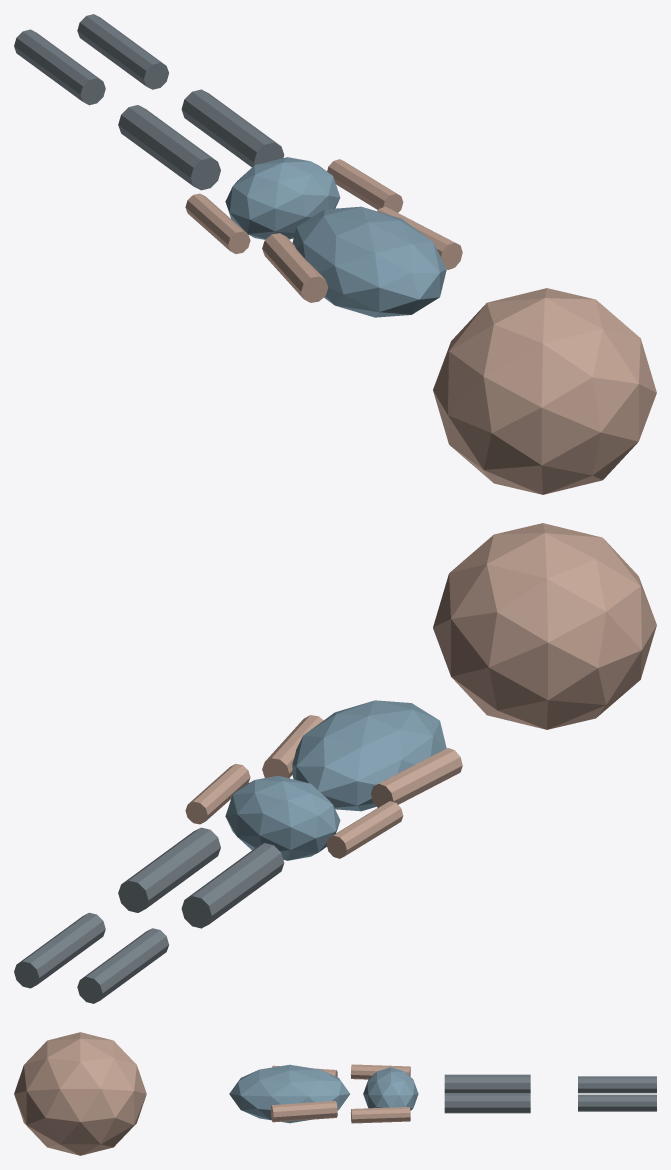
File: newborn-low.glb
3 views of the same model, one above another, from view 1: azimuth 30°, elevation 25°; view 2: azimuth 150°, elevation 25°; view 3: azimuth 270°, elevation 25° (orthographic). The views are drawn at different scales.
Parts seen in each view (by area): view 1: head, torso, pelvis, left_thigh, right_thigh, left_lower_leg, right_lower_leg, left_upper_arm, left_forearm, right_forearm, right_upper_arm; view 2: head, torso, pelvis, right_thigh, left_thigh, right_lower_leg, left_lower_leg, left_upper_arm, left_forearm, right_forearm, right_upper_arm; view 3: head, torso, pelvis, right_thigh, left_thigh, left_lower_leg, right_lower_leg, right_upper_arm, right_forearm, left_forearm.
Boxes of the visible parts, left/top/right/bottom form: head: left=433, top=288, right=656, bottom=494; torso: left=292, top=206, right=446, bottom=317; pelvis: left=225, top=157, right=340, bottom=239; left_thigh: left=118, top=105, right=220, bottom=190; right_thigh: left=181, top=89, right=284, bottom=167; left_lower_leg: left=14, top=29, right=105, bottom=105; right_lower_leg: left=77, top=14, right=168, bottom=89; left_upper_arm: left=262, top=233, right=328, bottom=302; left_forearm: left=185, top=193, right=250, bottom=253; right_forearm: left=327, top=159, right=403, bottom=212; right_upper_arm: left=377, top=206, right=462, bottom=269; head: left=433, top=523, right=656, bottom=729; torso: left=292, top=700, right=446, bottom=811; pelvis: left=225, top=775, right=340, bottom=860; right_thigh: left=118, top=827, right=220, bottom=912; left_thigh: left=181, top=843, right=284, bottom=928; right_lower_leg: left=14, top=912, right=105, bottom=988; left_lower_leg: left=77, top=928, right=168, bottom=1003; left_upper_arm: left=371, top=748, right=462, bottom=807; left_forearm: left=326, top=801, right=403, bottom=858; right_forearm: left=185, top=764, right=250, bottom=824; right_upper_arm: left=262, top=715, right=323, bottom=778; head: left=14, top=1032, right=146, bottom=1155; torso: left=229, top=1064, right=349, bottom=1123; pelvis: left=363, top=1067, right=418, bottom=1110; right_thigh: left=444, top=1093, right=530, bottom=1113; left_thigh: left=444, top=1074, right=530, bottom=1092; left_lower_leg: left=578, top=1076, right=656, bottom=1093; right_lower_leg: left=578, top=1094, right=656, bottom=1111; right_upper_arm: left=270, top=1100, right=337, bottom=1122; right_forearm: left=350, top=1107, right=410, bottom=1123; left_forearm: left=350, top=1064, right=410, bottom=1079.
Size of the model in its own units: 0.92 by 0.8464 by 4.45.
